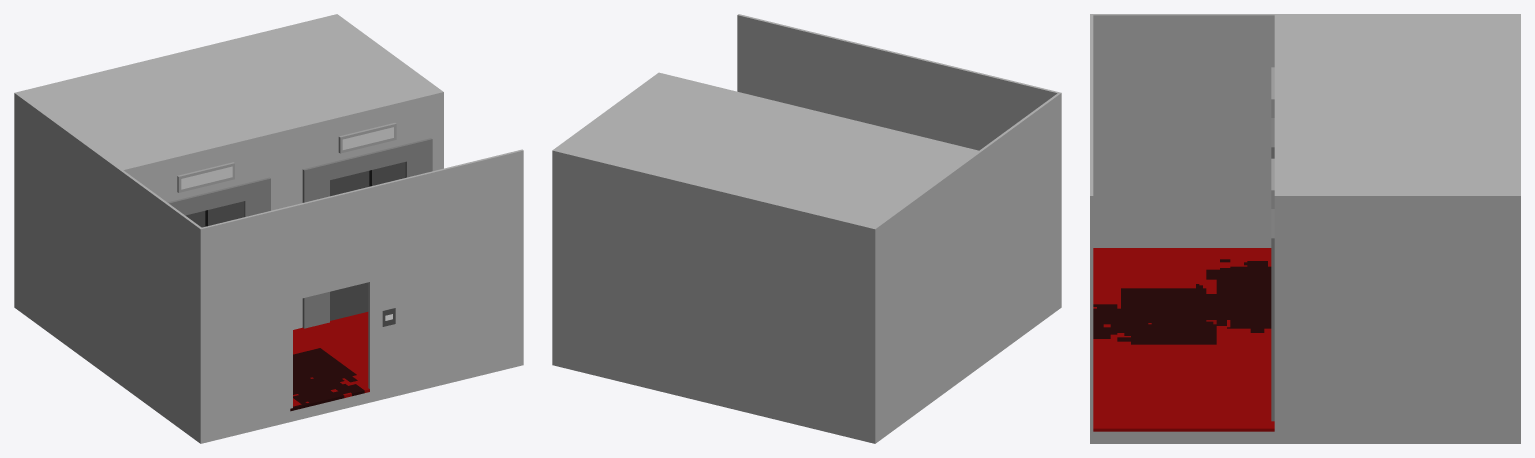
File: 4x2 third (1)-4.obj
3 renders of one model, left to right at view 1: azimuth 30°, elevation 25°; view 2: azimuth 150°, elevation 25°; view 3: azimuth 270°, elevation 25°, orthographic. The views are drawn at different scales.
Parts seen in each view (by area): view 1: 4x2 third (1)-4; view 2: 4x2 third (1)-4; view 3: 4x2 third (1)-4.
Boxes of the visible parts, x1,y1,x2,y2 form: 4x2 third (1)-4: [14, 14, 523, 443]; 4x2 third (1)-4: [552, 14, 1061, 443]; 4x2 third (1)-4: [1090, 14, 1520, 443].
Bounding box in the file's own units: 126 × 80 × 126.
Materials: 1 (1 with a texture image).
